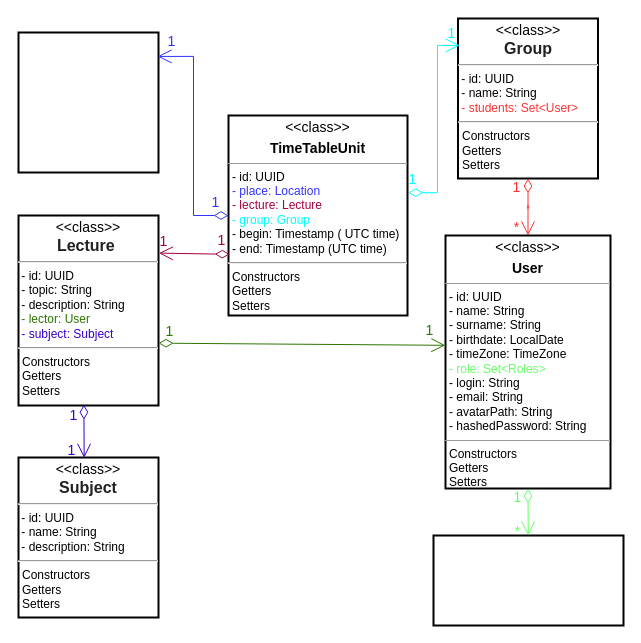
Some shapes in this 641 by 643 pixel diagram are drawn without their labels. Here are the shapes that lost their labels. From the top down, the centre of each, then its label:
At point (88, 102): "<<class>> Location - id: UUID - adress: String Constructors Getters Setters".
At point (528, 580): "<<enumeration>> Roles Admin Teacher Student".
